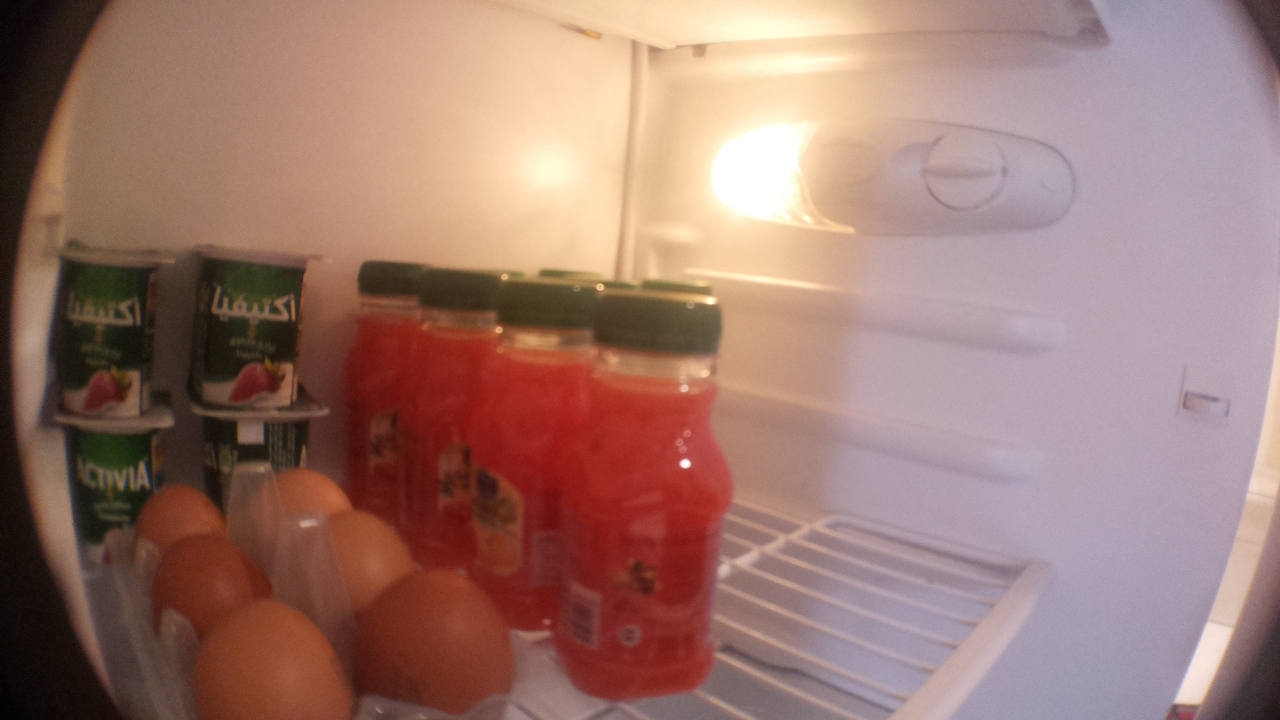egg: (346, 565, 514, 718), (191, 593, 338, 720), (142, 532, 273, 626), (302, 499, 415, 603), (130, 479, 227, 558), (263, 459, 361, 534)
juice: (556, 294, 733, 710), (455, 281, 597, 636), (408, 265, 498, 568), (345, 257, 421, 512)
yoghurt: (179, 239, 326, 412), (60, 237, 179, 416), (64, 414, 178, 558), (195, 412, 328, 466)
